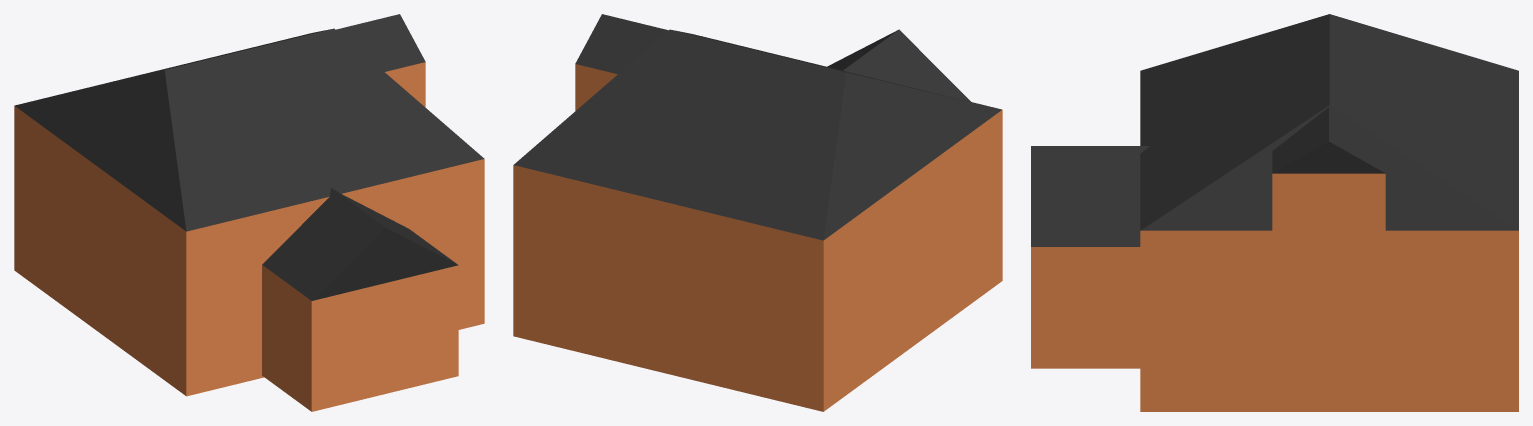
Rendered from HouseDummy.fbx.
3 views of the same model, side by side, from view 1: azimuth 30°, elevation 25°; view 2: azimuth 150°, elevation 25°; view 3: azimuth 270°, elevation 25° (orthographic). The views are drawn at different scales.
Visible parts, largest first — view 1: HouseDummy; view 2: HouseDummy; view 3: HouseDummy.
Boxes of the visible parts, bbox=[...] form: HouseDummy: bbox=[14, 14, 484, 411]; HouseDummy: bbox=[513, 14, 1002, 411]; HouseDummy: bbox=[1031, 14, 1518, 411].
Bounding box in the file's own units: 413 × 327 × 530.
